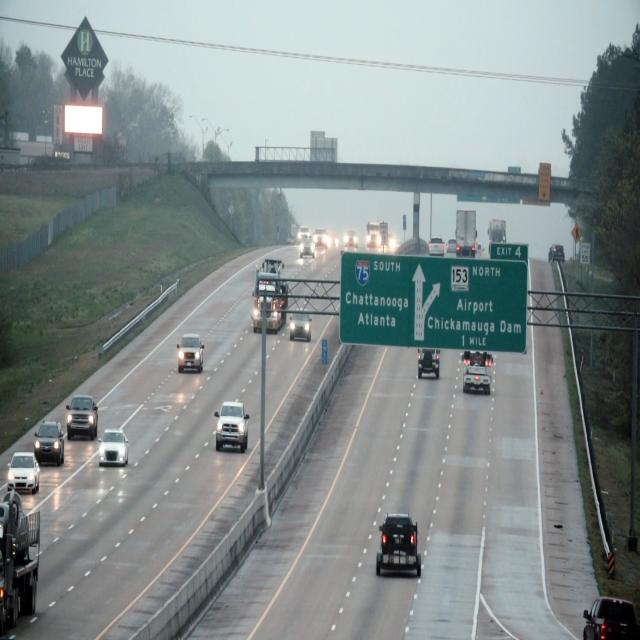Car: (376, 510, 424, 580), (256, 257, 286, 336), (214, 401, 250, 453), (462, 350, 494, 395), (98, 426, 130, 469), (9, 451, 40, 495), (67, 393, 96, 439), (37, 418, 65, 465), (177, 333, 206, 375), (288, 307, 312, 343), (417, 348, 442, 380)
